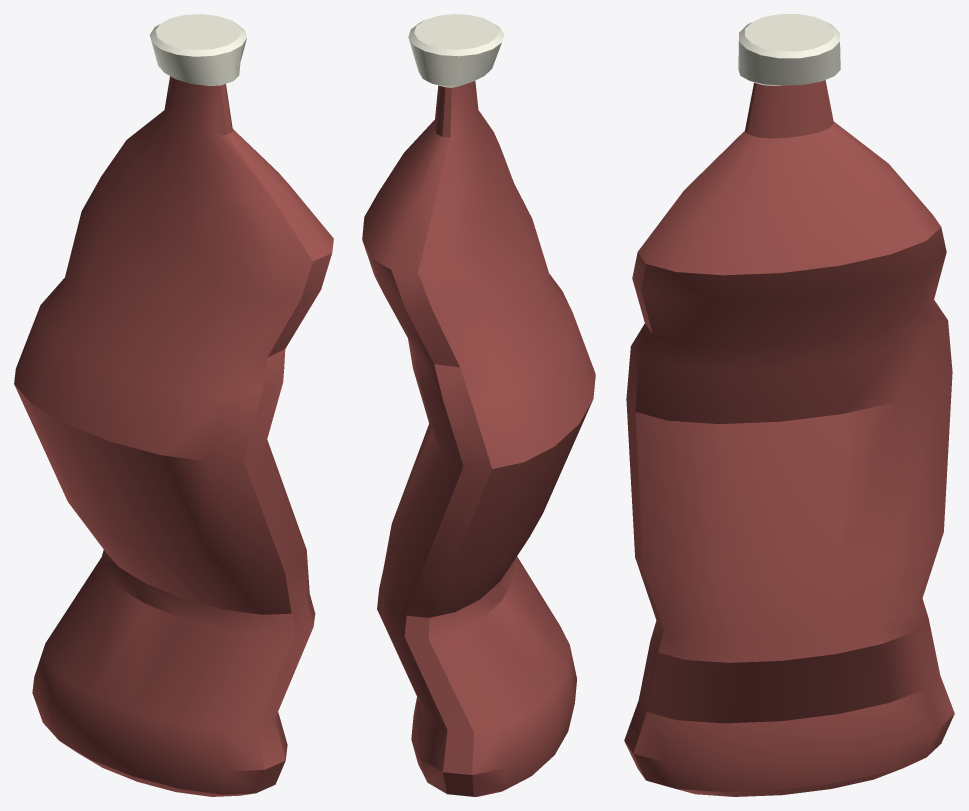
The model's file is Botella_08.fbx.
3 renders of one model, left to right at view 1: azimuth 30°, elevation 25°; view 2: azimuth 150°, elevation 25°; view 3: azimuth 270°, elevation 25°, orthographic. The views are drawn at different scales.
Visible parts, largest first — view 1: Botella_08; view 2: Botella_08; view 3: Botella_08.
Part boxes in pixels (bbox=[...]): Botella_08: bbox=[14, 14, 333, 796]; Botella_08: bbox=[362, 14, 595, 796]; Botella_08: bbox=[624, 14, 954, 796].
Bounding box in the file's own units: 21.5 × 66.39 × 26.38.
